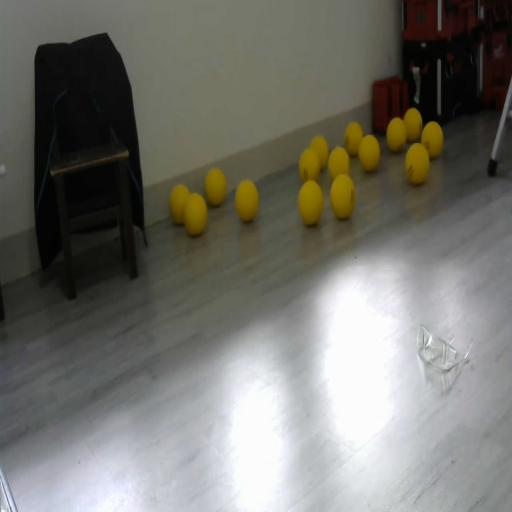FUEL: (297, 178, 324, 227), (329, 174, 355, 220), (405, 142, 430, 185), (235, 179, 259, 223), (420, 121, 444, 159), (204, 167, 226, 206), (169, 184, 190, 224), (358, 134, 380, 172), (328, 146, 350, 181), (386, 117, 406, 152), (344, 122, 364, 156), (310, 135, 328, 172), (404, 107, 422, 142)
